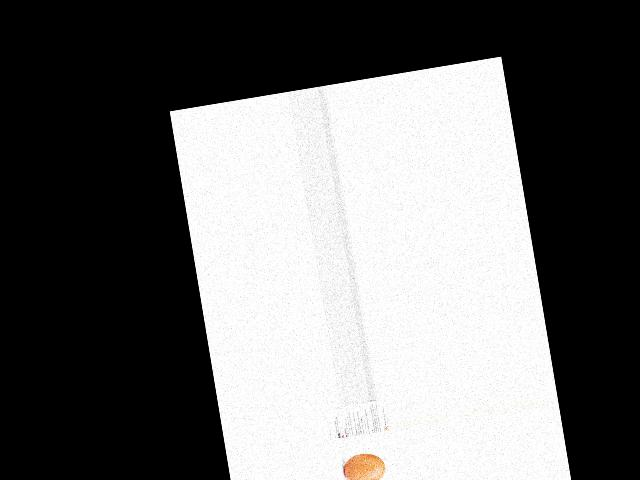egg: (341, 450, 387, 480)
